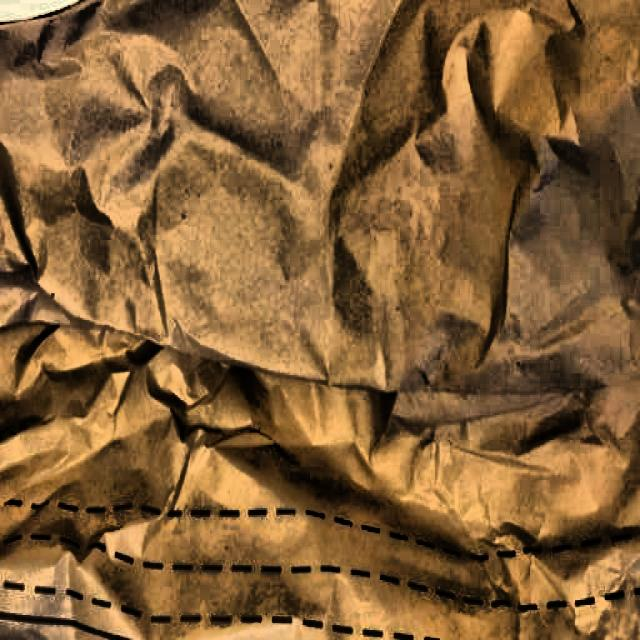paper: (13, 1, 621, 640)
